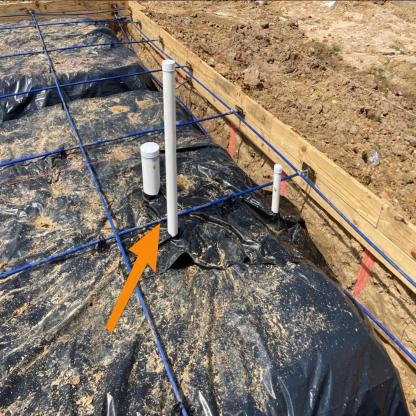PVC: (162, 60, 177, 236), (140, 140, 161, 201), (273, 160, 282, 215)
